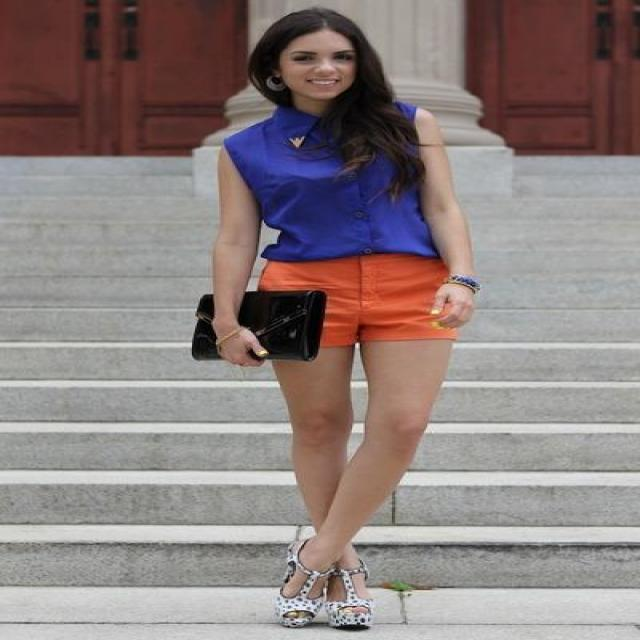bag: (192, 287, 325, 360)
shirt: (224, 90, 432, 262)
shoe: (270, 566, 382, 630)
shorts: (258, 243, 448, 347)
